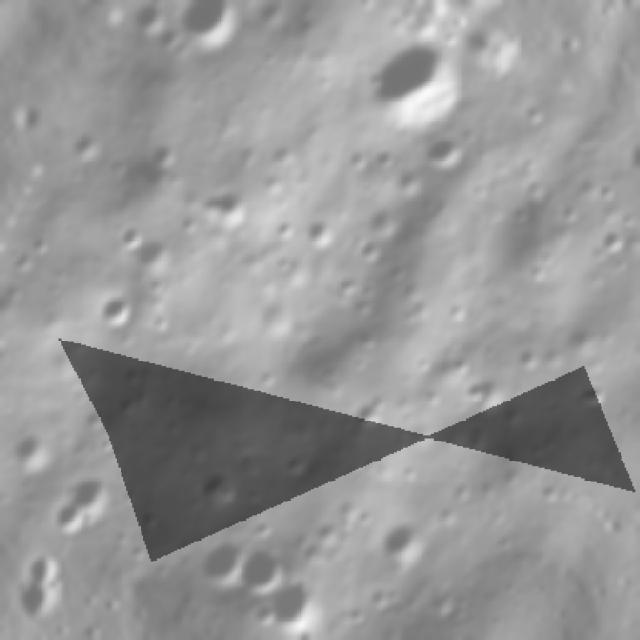crater: (332, 12, 482, 152), (43, 454, 137, 554), (251, 564, 334, 640), (169, 0, 263, 65), (186, 172, 268, 242), (226, 533, 297, 610), (404, 118, 476, 191), (370, 506, 436, 574), (0, 419, 66, 486), (187, 529, 250, 596), (85, 283, 148, 345), (319, 485, 376, 541), (294, 205, 351, 260), (189, 465, 243, 517), (453, 362, 504, 416), (564, 372, 618, 422), (120, 0, 178, 46), (137, 132, 189, 182), (61, 123, 110, 171), (106, 210, 152, 259), (589, 219, 636, 266), (276, 441, 322, 487), (506, 335, 549, 380), (108, 384, 152, 427), (76, 397, 112, 437), (618, 122, 640, 181), (637, 268, 640, 329)
